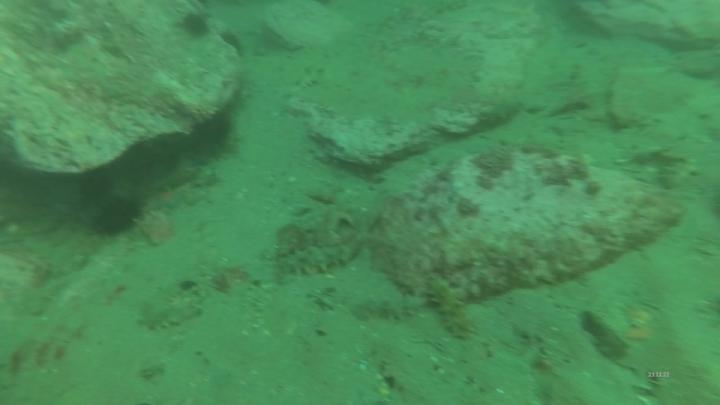echinus: (79, 191, 150, 239)
holothurian: (427, 273, 480, 347), (275, 243, 367, 280), (135, 300, 215, 334)
